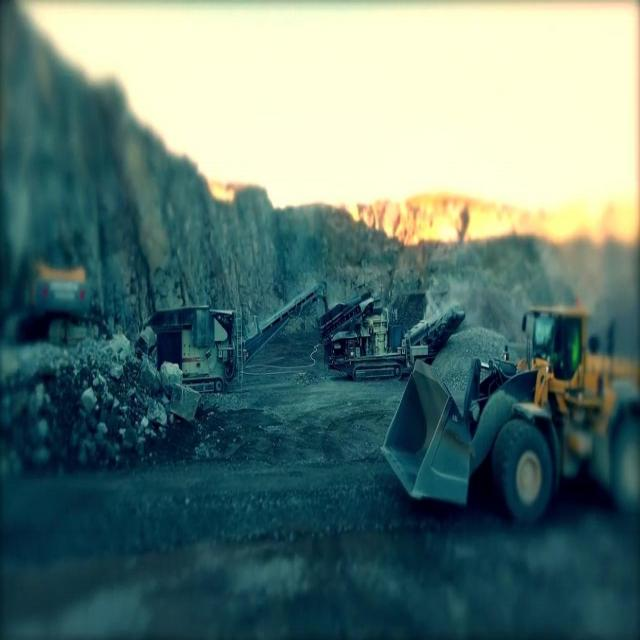Excavator: (3, 255, 93, 348)
Loader: (380, 294, 640, 528)
